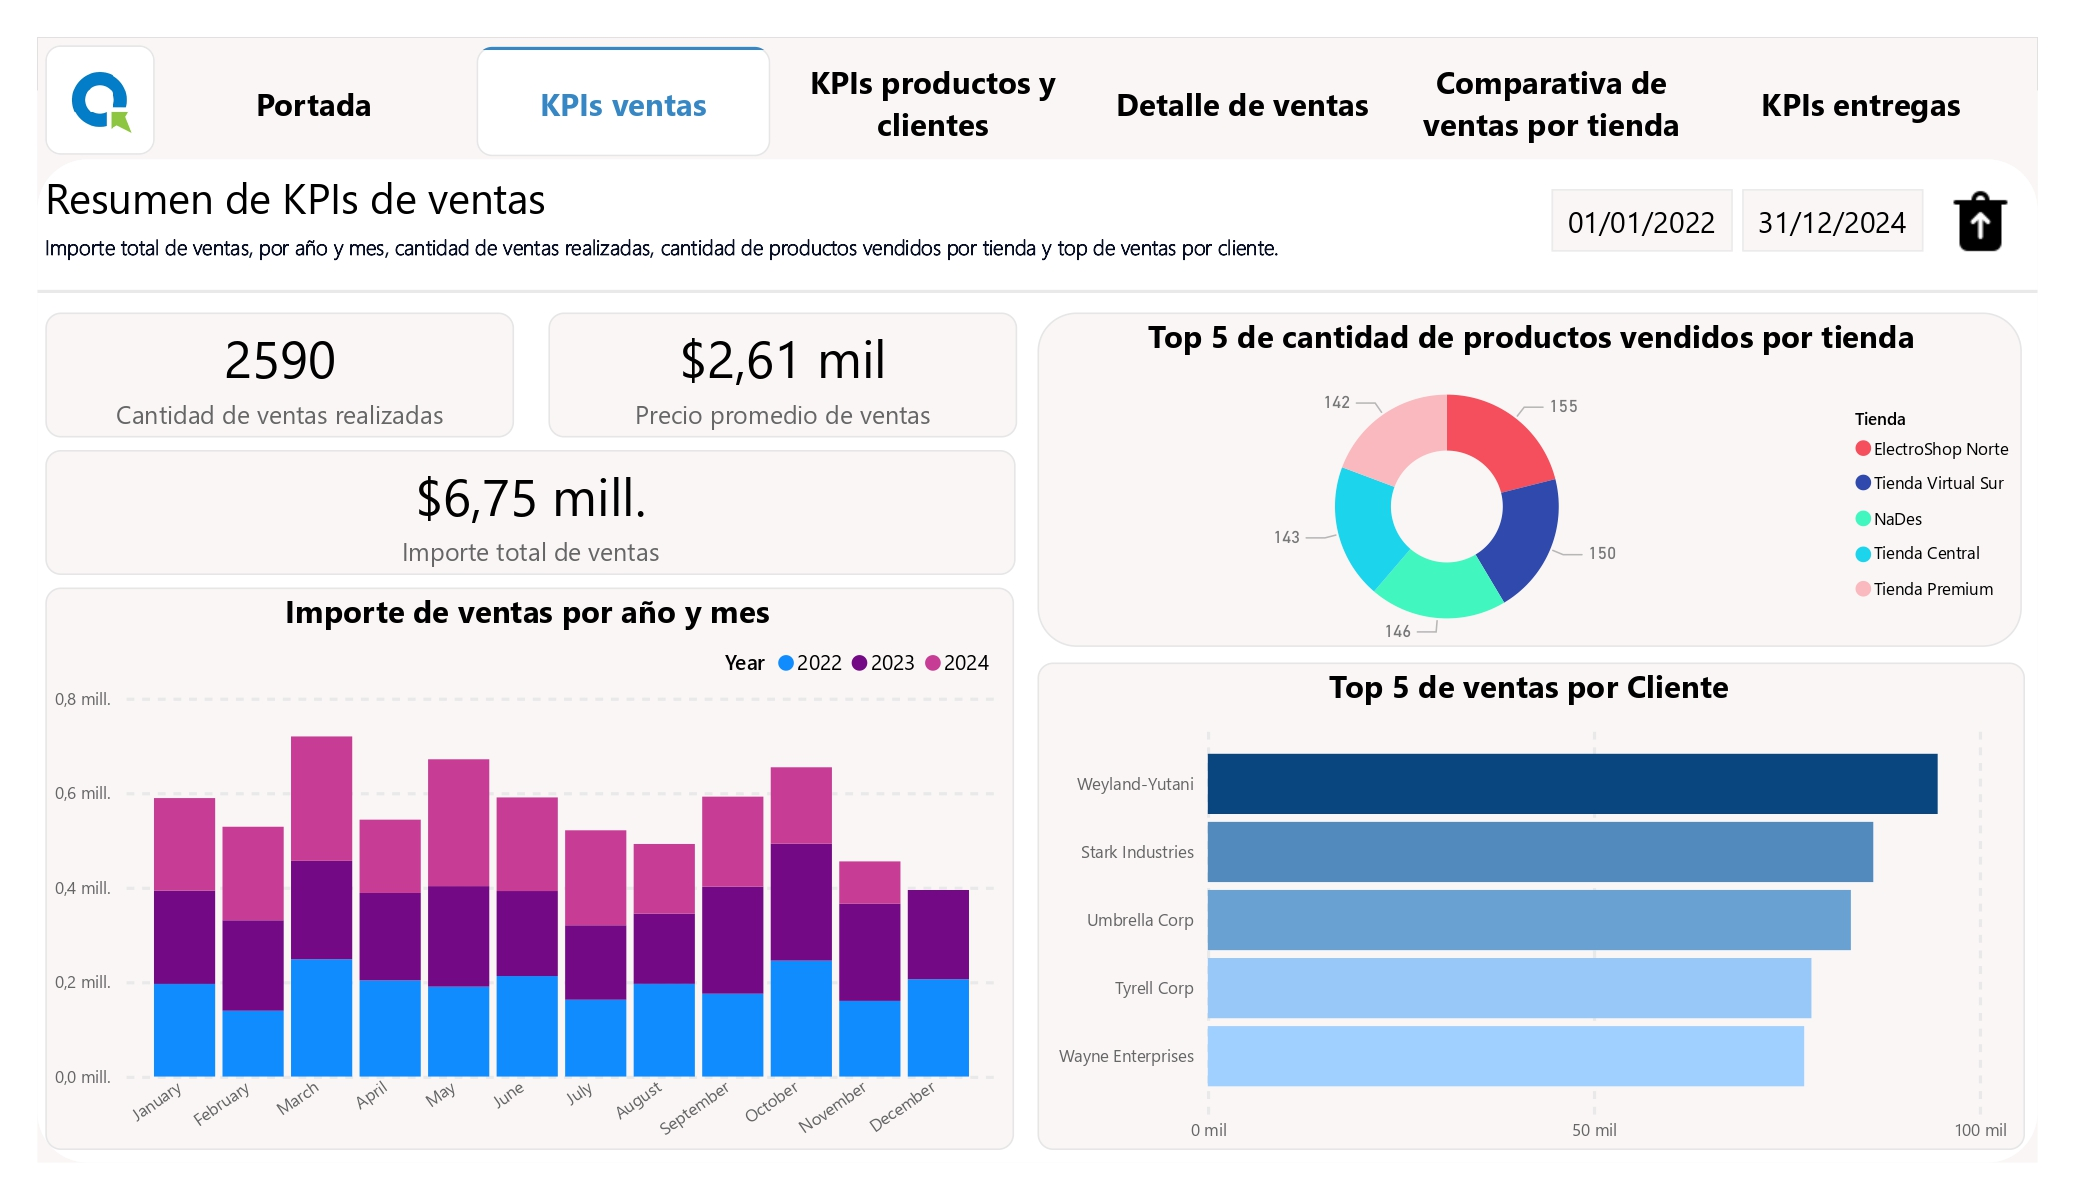

The page's visual inventory and layout, read from the dashboard file:
{"tool":"powerbi","page":{"name":"KPIs ventas","canvas":[1280,720],"ordinal":1},"visuals":[{"type":"shape","box":[0,78.3,1280,641.7],"z":0},{"type":"card","fields":{"Values":["CountNonNull(Fact_Ventas.CodigoVenta)"]},"box":[5,175.6,300,80],"z":1000},{"type":"card","fields":{"Values":["Avg(Fact_Ventas.PrecioVenta_Total)"]},"box":[327.1,175.7,300,80],"z":2000},{"type":"columnChart","title":"Importe de ventas por año y mes","fields":{"Category":["Dim_Tiempo.Tiempo_Key.Variación.Date Hierarchy.Month"],"Y":["Fact_Ventas.Suma_PrecioVenta_Total"],"Series":["Dim_Tiempo.Tiempo_Key.Variación.Date Hierarchy.Year"]},"box":[5,351.7,620,360],"z":3000},{"type":"donutChart","title":"Top 5 de cantidad de productos vendidos por tienda","fields":{"Category":["Dim_Tienda.Descripcion"],"Y":["CountNonNull(Fact_Ventas.CodigoTienda)"]},"box":[640,176,630,214],"z":4000},{"type":"clusteredBarChart","title":"Top 5 de ventas por Cliente","fields":{"Y":["Sum(Fact_Ventas.PrecioVenta)"],"Category":["Fact_Ventas.Cliente"]},"box":[640,400,631.7,311.7],"z":5000},{"type":"pageNavigator","box":[82.7,5.8,1183.1,70],"z":6000},{"type":"card","fields":{"Values":["Sum(Fact_Ventas.PrecioVenta_Total)"]},"box":[5,263.7,620.8,80],"z":7000},{"type":"image","box":[5.4,5.4,70,70],"z":8000},{"type":"slicer","fields":{"Values":["Dim_Tiempo.Tiempo_Key"]},"box":[955.8,86.7,261.7,60],"z":9000},{"type":"textbox","title":"Resumen de KPIs de ventas","box":[0,83.8,810,65],"z":11000},{"type":"shape","box":[0,156.8,1280,10.8],"z":12000},{"type":"image","box":[1216.7,91.7,53.3,50],"z":13000}]}

Visuals, with their boxes on the page's 1280x720 design canvas (x1, y1, x2, y2). These are canvas units, not pixel positions in the 2075x1200 screenshot, which may show the page scaled, cropped or inside an application window:
shape: 0, 78, 1280, 720
card - CountNonNull(Fact_Ventas.CodigoVenta): 5, 176, 305, 256
card - Avg(Fact_Ventas.PrecioVenta_Total): 327, 176, 627, 256
"Importe de ventas por año y mes" columnChart: 5, 352, 625, 712
"Top 5 de cantidad de productos vendidos por tienda" donutChart: 640, 176, 1270, 390
"Top 5 de ventas por Cliente" clusteredBarChart: 640, 400, 1272, 712
pageNavigator: 83, 6, 1266, 76
card - Sum(Fact_Ventas.PrecioVenta_Total): 5, 264, 626, 344
image: 5, 5, 75, 75
slicer - Dim_Tiempo.Tiempo_Key: 956, 87, 1218, 147
"Resumen de KPIs de ventas" textbox: 0, 84, 810, 149
shape: 0, 157, 1280, 168
image: 1217, 92, 1270, 142
